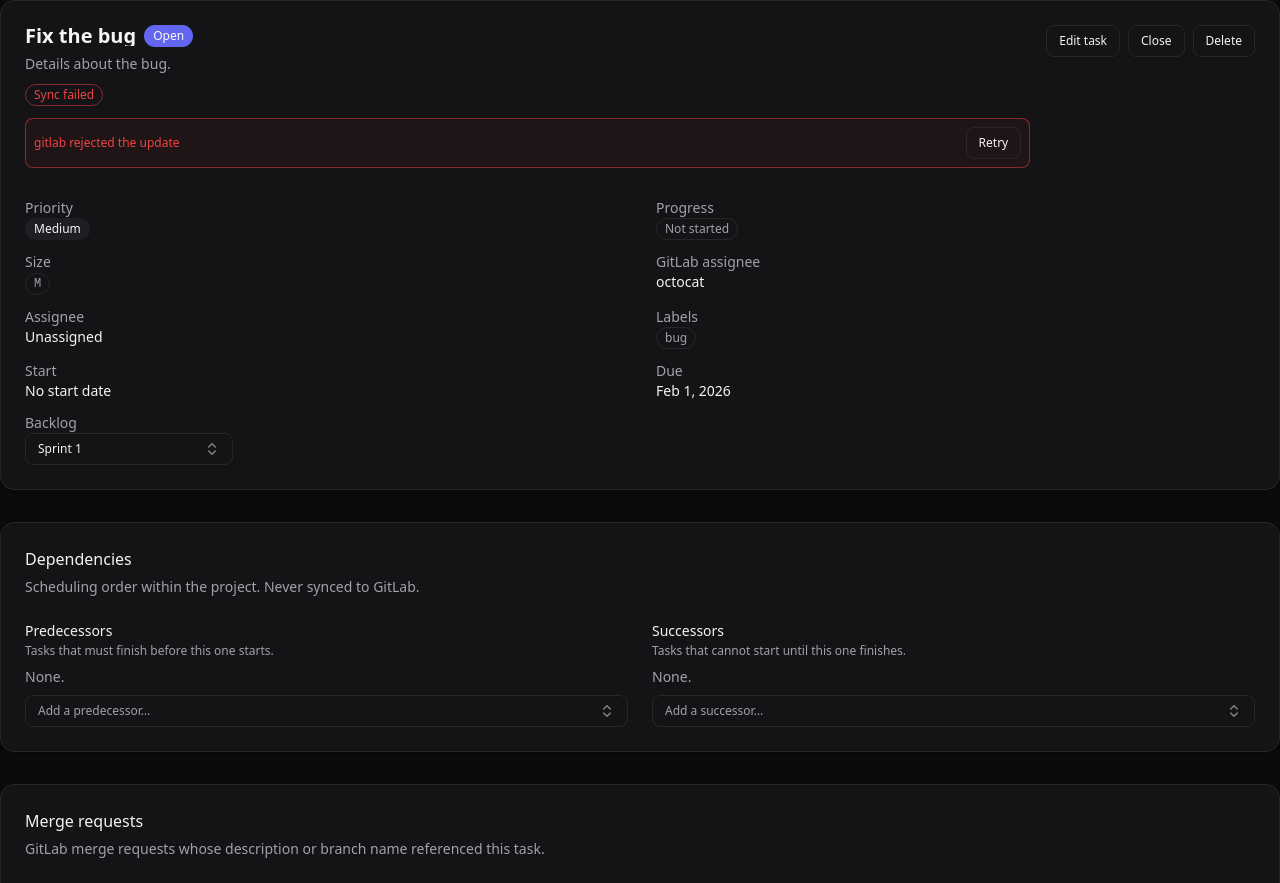
TaskDetail › shows an error when retry fails
Click the button "Retry". click: (993, 143)
box: [966,127,1021,159]
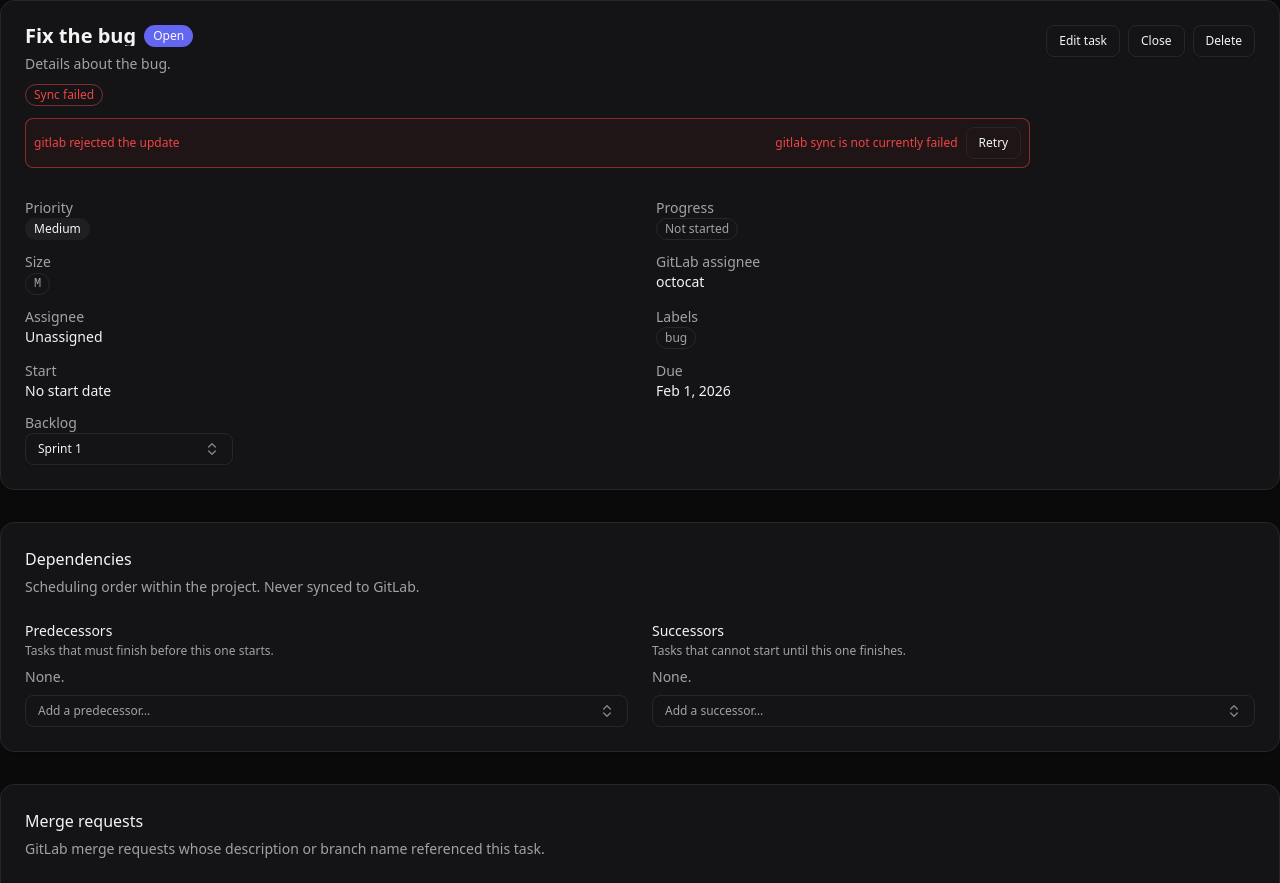
Expected: the text "gitlab sync is not currently failed" is shown, [775,135,958,151]
